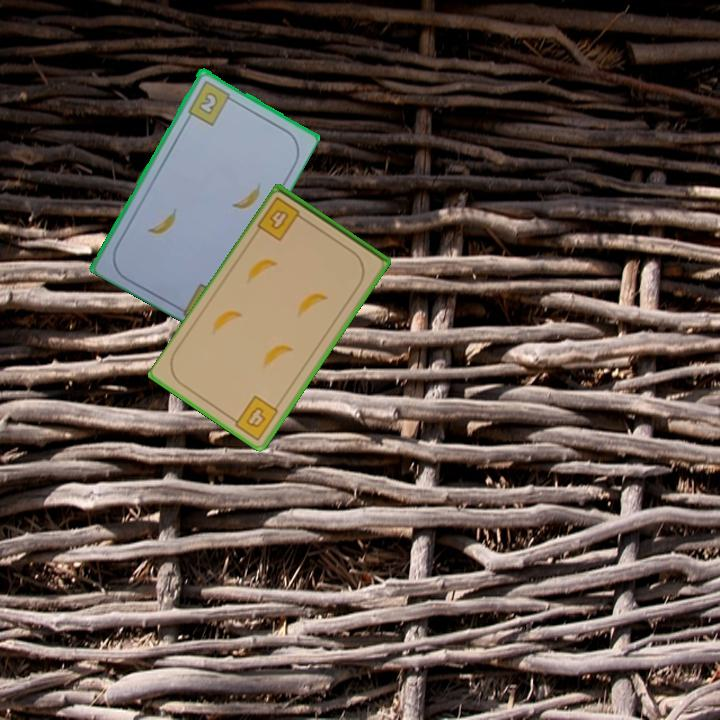2b: (184, 77, 237, 128)
4b: (254, 193, 310, 244), (227, 392, 282, 443)
